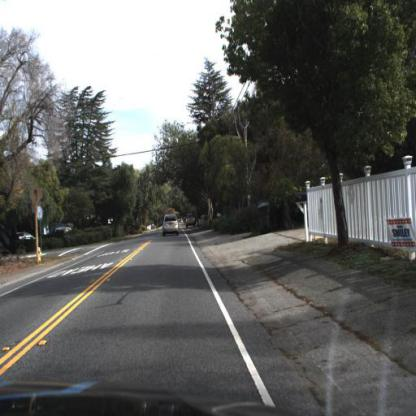car: (161, 213, 180, 237), (186, 215, 198, 230)
